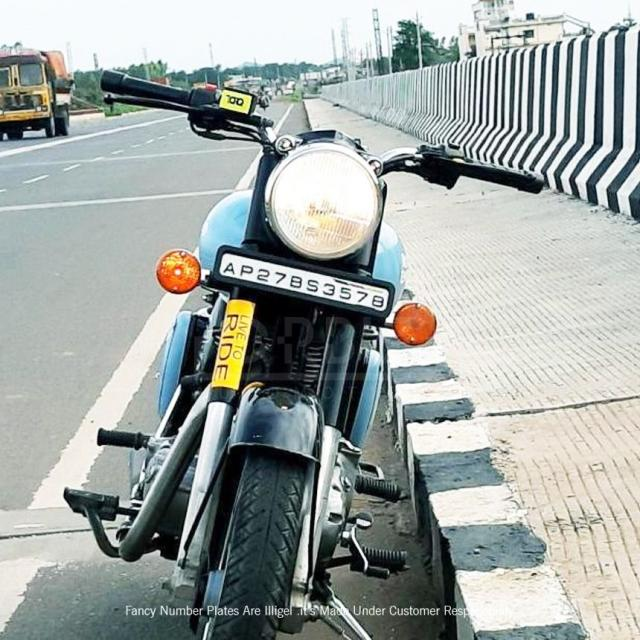number plate: (213, 245, 394, 319)
